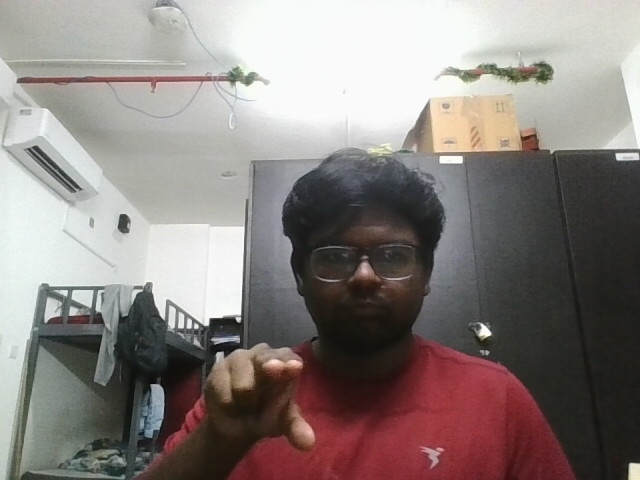No: (187, 330, 328, 468)
